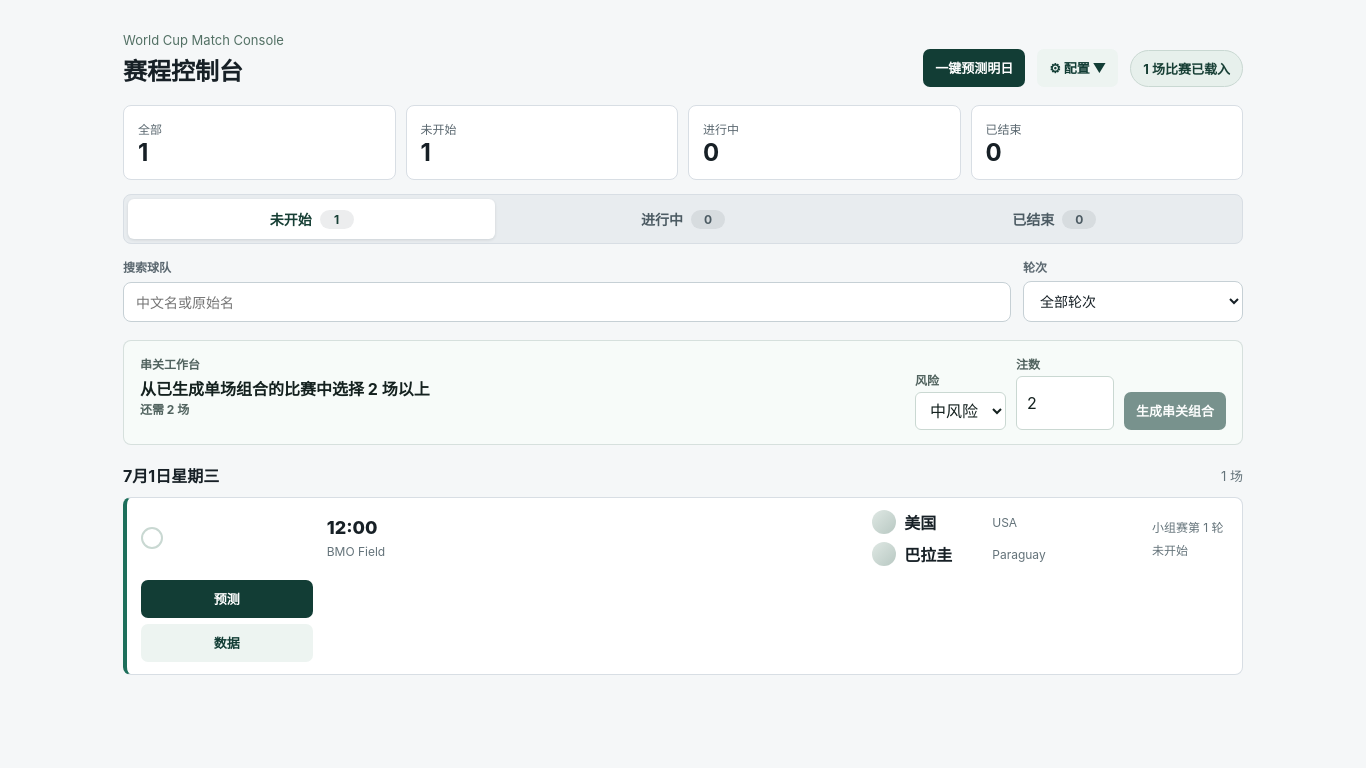
FixturesPage › does not treat empty-leg single combinations as generated parlay plans
Click the button "预测".
click(227, 599)  # box [141, 580, 313, 618]
(page scrolled)
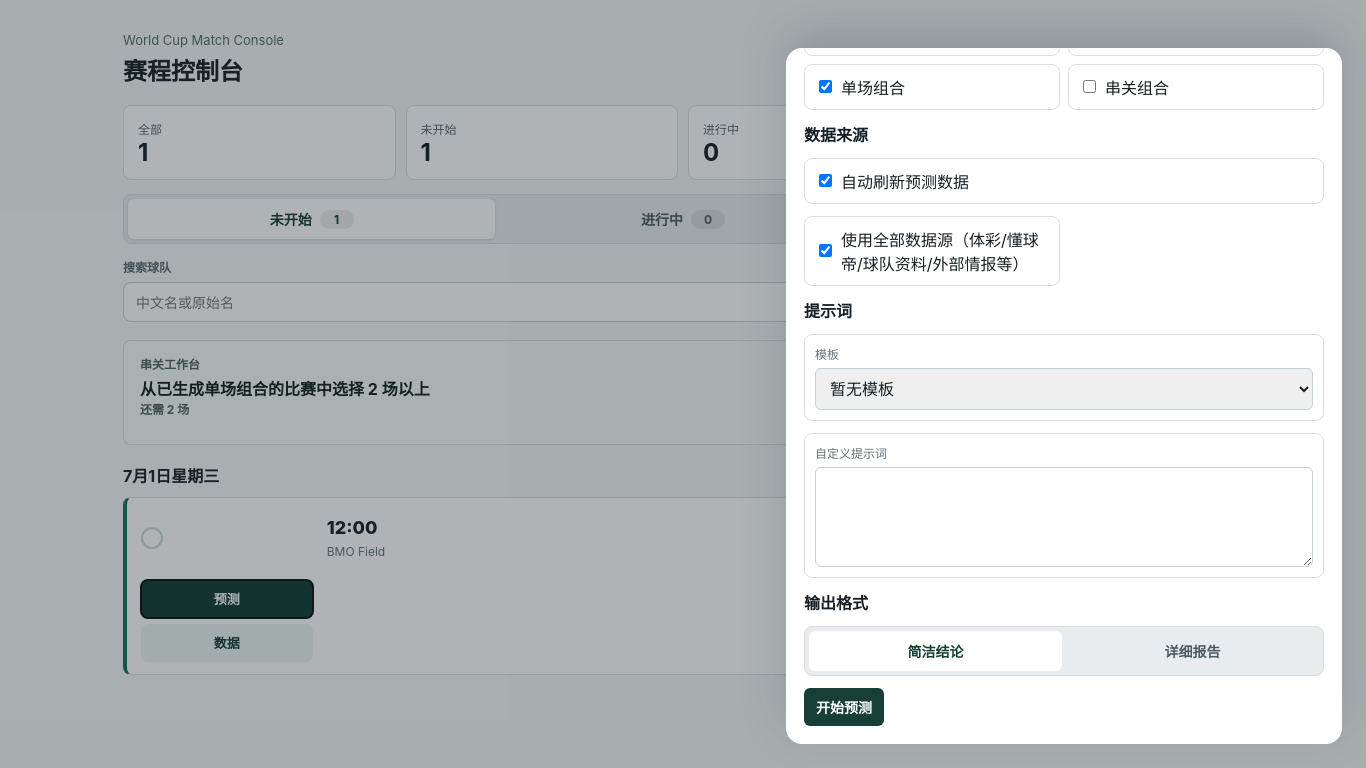
Click the button "开始预测".
click(844, 706)  # box [804, 688, 884, 726]
(page scrolled)
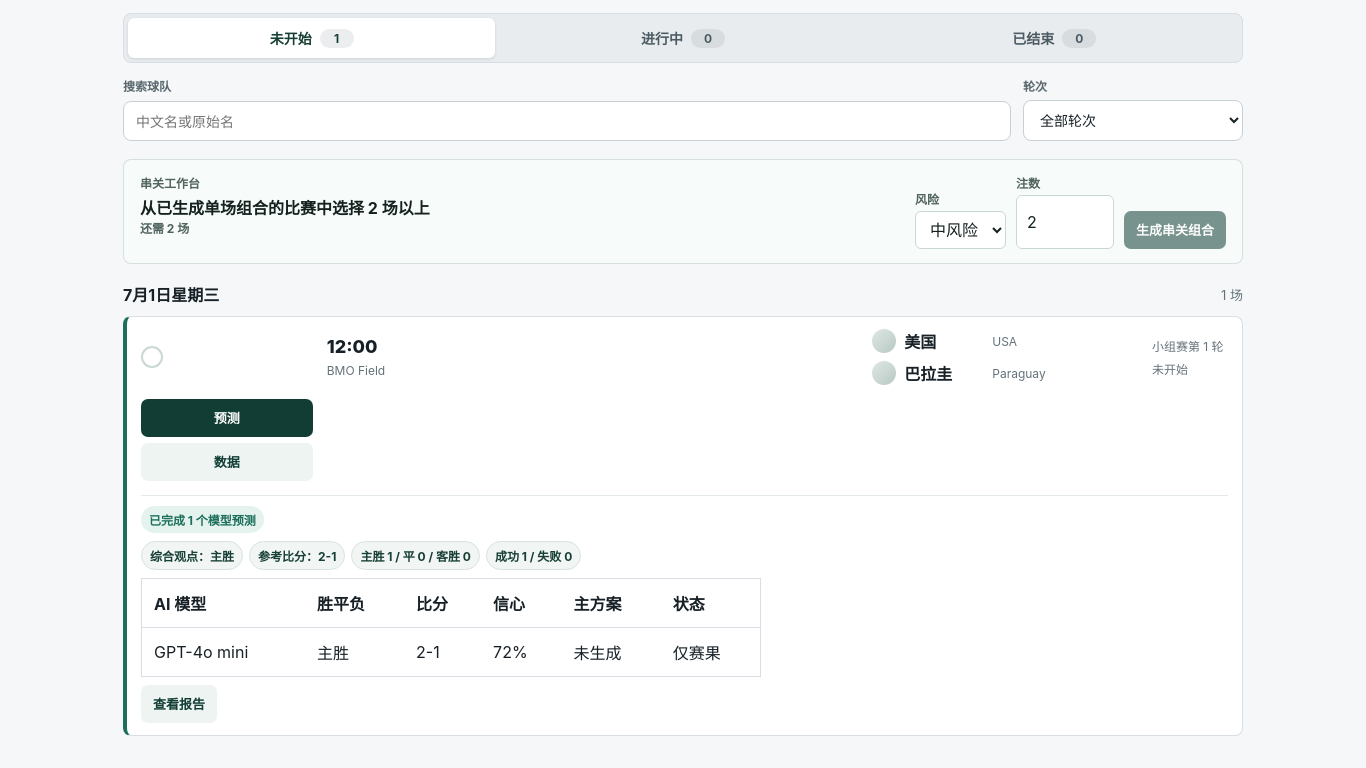
Expected: the text "已完成 1 个模型预测" is shown, [141, 506, 264, 533]
Expected: the text "未生成" is shown, [562, 628, 661, 676]
Expected: the text "仅赛果" is shown, [661, 628, 760, 676]
